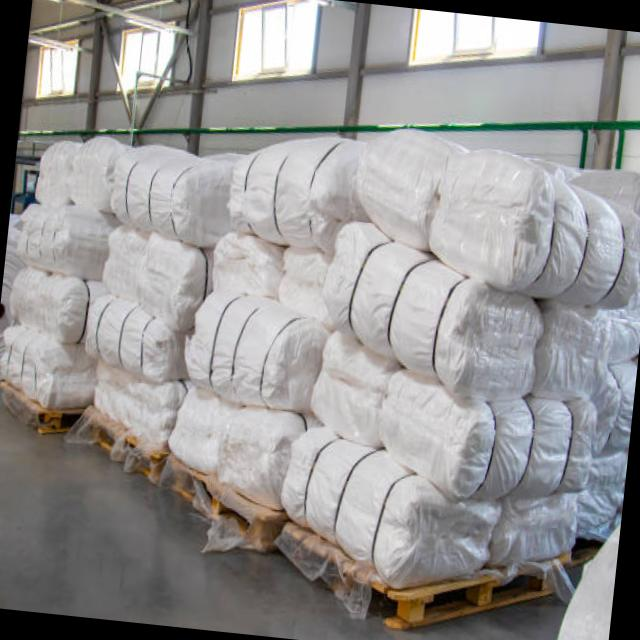Wooden-Pallets: (395, 555, 557, 634)
